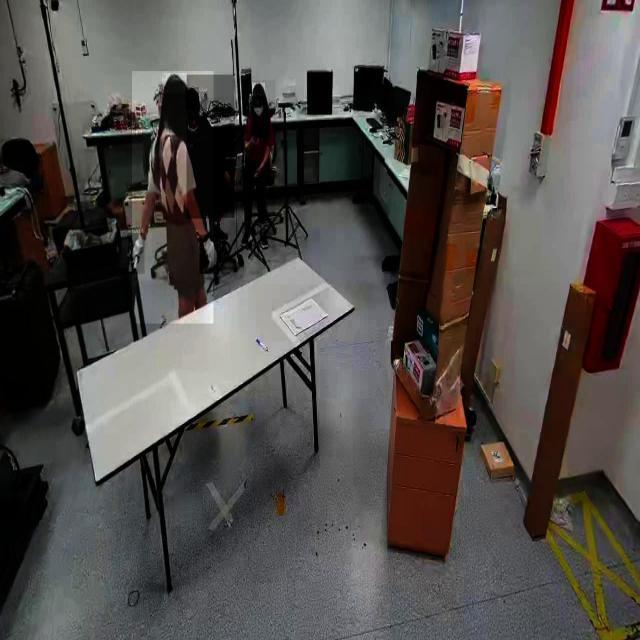gloves: (199, 234, 219, 274), (128, 233, 145, 275)
